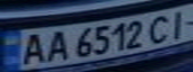1: (109, 20, 130, 52)
2: (124, 17, 151, 48)
5: (90, 21, 112, 56)
6: (72, 25, 96, 58)
A: (15, 30, 51, 66), (39, 28, 72, 63)
C: (145, 11, 175, 44)
I: (163, 7, 193, 39)
